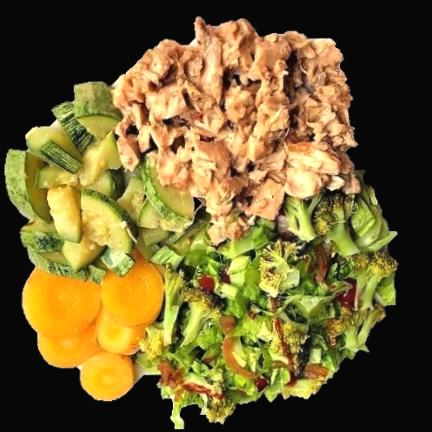broccoli: (141, 191, 394, 421)
cassava: (20, 253, 168, 403)
chicken: (113, 19, 364, 220)
green_vegetables: (4, 83, 203, 283)
